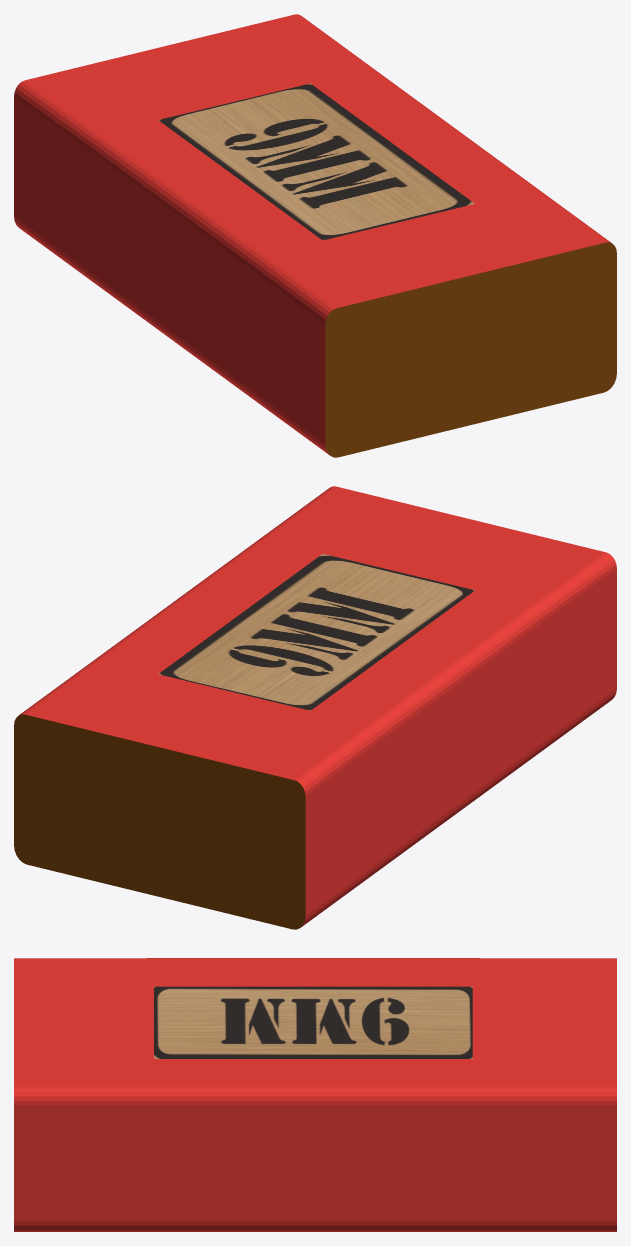
File: ammo_pistol.fbx
3 views of the same model, one above another, from view 1: azimuth 30°, elevation 25°; view 2: azimuth 150°, elevation 25°; view 3: azimuth 270°, elevation 25° (orthographic). The views are drawn at different scales.
Visible parts, largest first — view 1: Cube.001; view 2: Cube.001; view 3: Cube.001.
Boxes of the visible parts, x1=… form: Cube.001: x1=14, y1=14, x2=616, y2=457; Cube.001: x1=14, y1=486, x2=616, y2=929; Cube.001: x1=14, y1=958, x2=616, y2=1231.
Size of the model in its own units: 200 by 98.47 by 370.
Materials: 3 (1 with a texture image).
